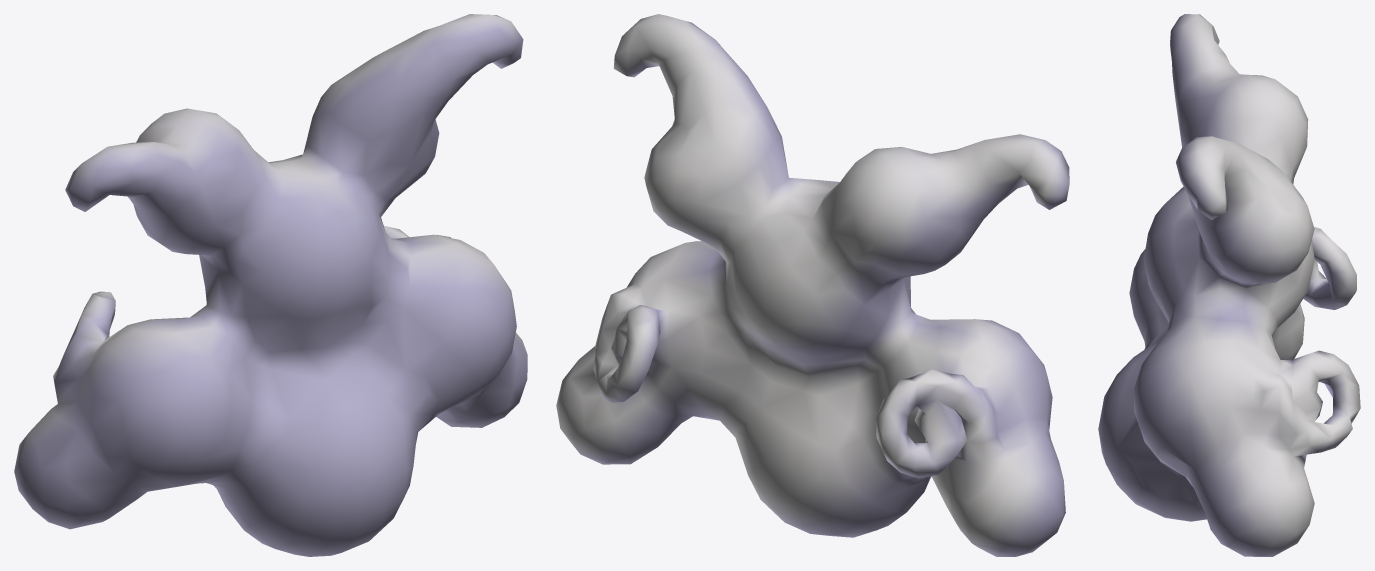
The model's file is gear5_coroa.fbx.
3 views of the same model, side by side, from view 1: azimuth 30°, elevation 25°; view 2: azimuth 150°, elevation 25°; view 3: azimuth 270°, elevation 25° (orthographic). The views are drawn at different scales.
Parts seen in each view (by area): view 1: gear5_coroa; view 2: gear5_coroa; view 3: gear5_coroa.
Boxes of the visible parts, x1,y1,x2,y2 form: gear5_coroa: [14, 14, 527, 556]; gear5_coroa: [556, 14, 1069, 556]; gear5_coroa: [1098, 14, 1360, 556].
Bounding box in the file's own units: 1.96 × 1.8 × 0.9686.
